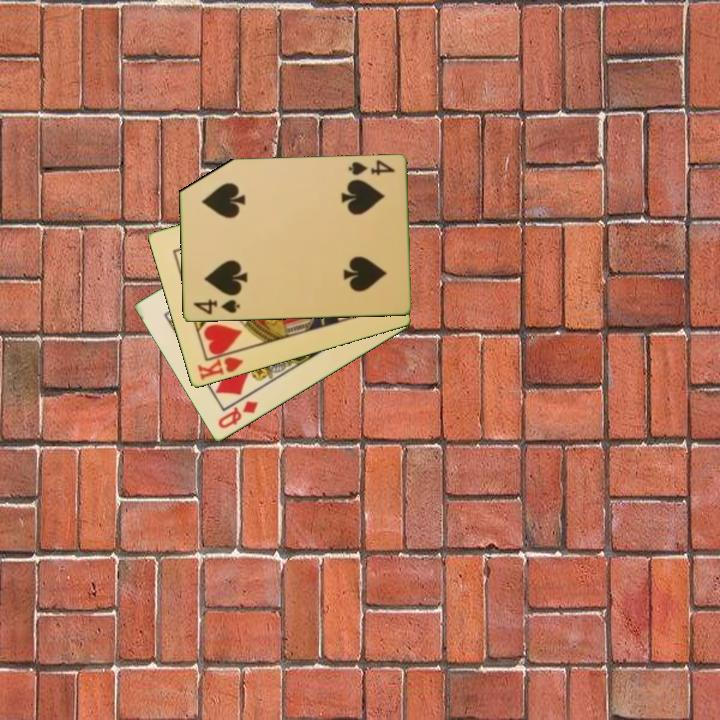4s: (344, 157, 398, 179), (190, 296, 242, 318)
Kh: (194, 347, 246, 383)
Qd: (214, 397, 261, 432)
